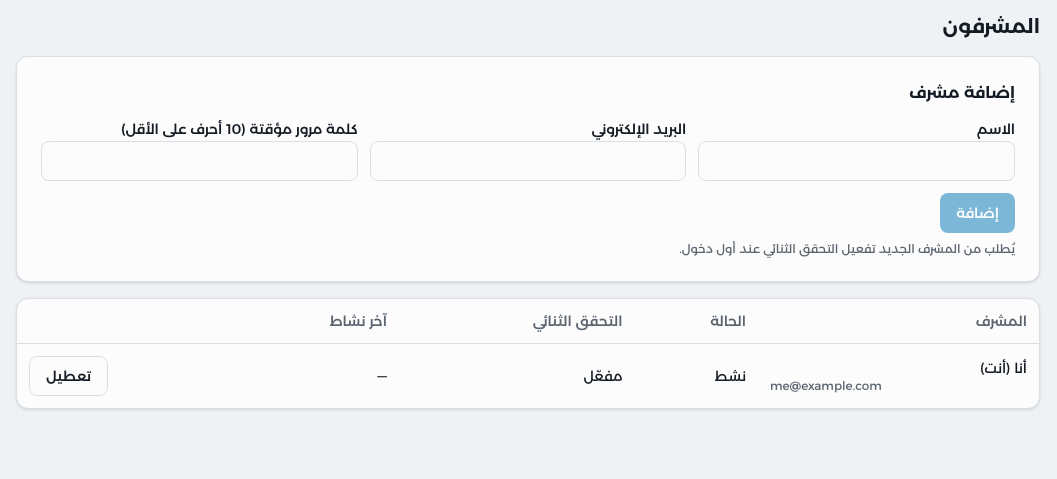
it: admin accounts page (§11.3, §26.2) › shows the Arabic error when the last active admin cannot be deactivated
The width and height of the screenshot is (1057, 479).
Click the button "تعطيل": (68, 376) [29,356,108,396]
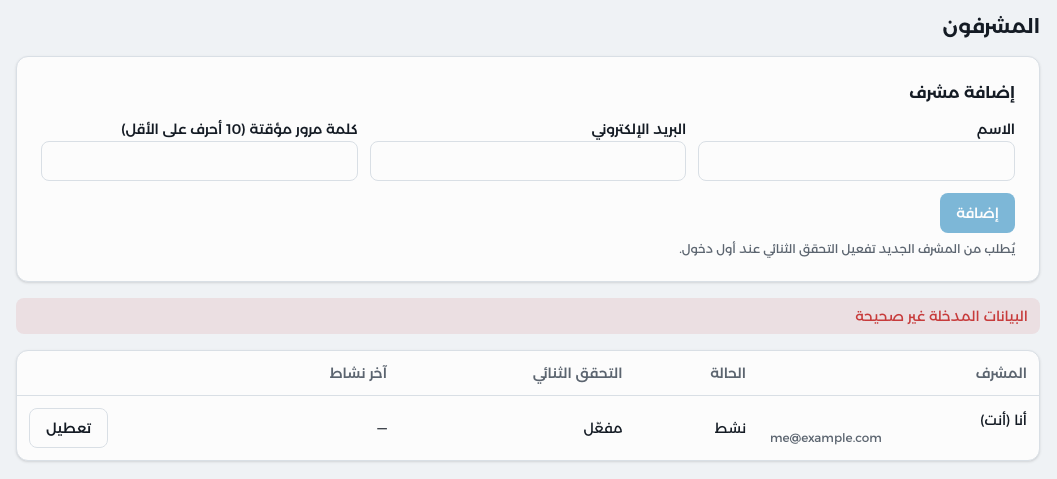
Check: the text "البيانات المدخلة غير صحيحة" is shown, box [16,298,1040,334]
